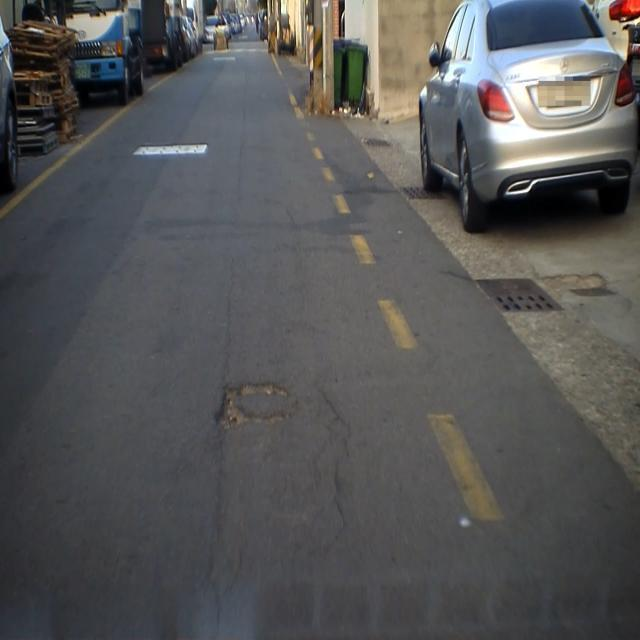pothole: (211, 370, 302, 438)
